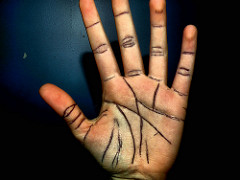palm: (98, 85, 179, 166)
